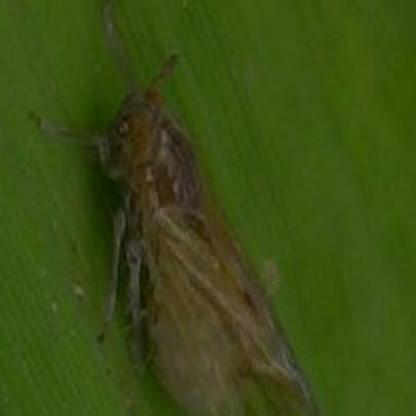brown-planthopper: (44, 56, 320, 416)
